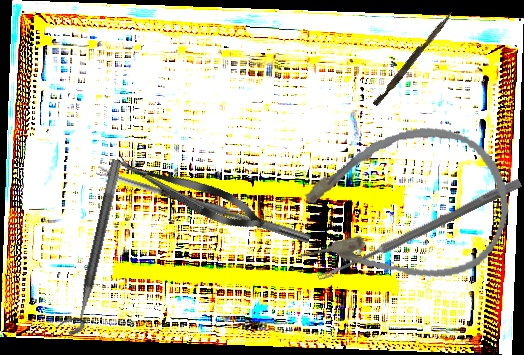Cannula: (284, 117, 517, 297)
Fixation Ring: (55, 155, 124, 338)
Micro Scissor: (109, 145, 270, 240)
Pusher: (372, 8, 454, 109)
Surgical Spoon: (316, 176, 523, 285), (95, 164, 312, 244)
